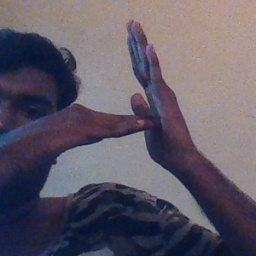Z: (80, 18, 194, 174)
